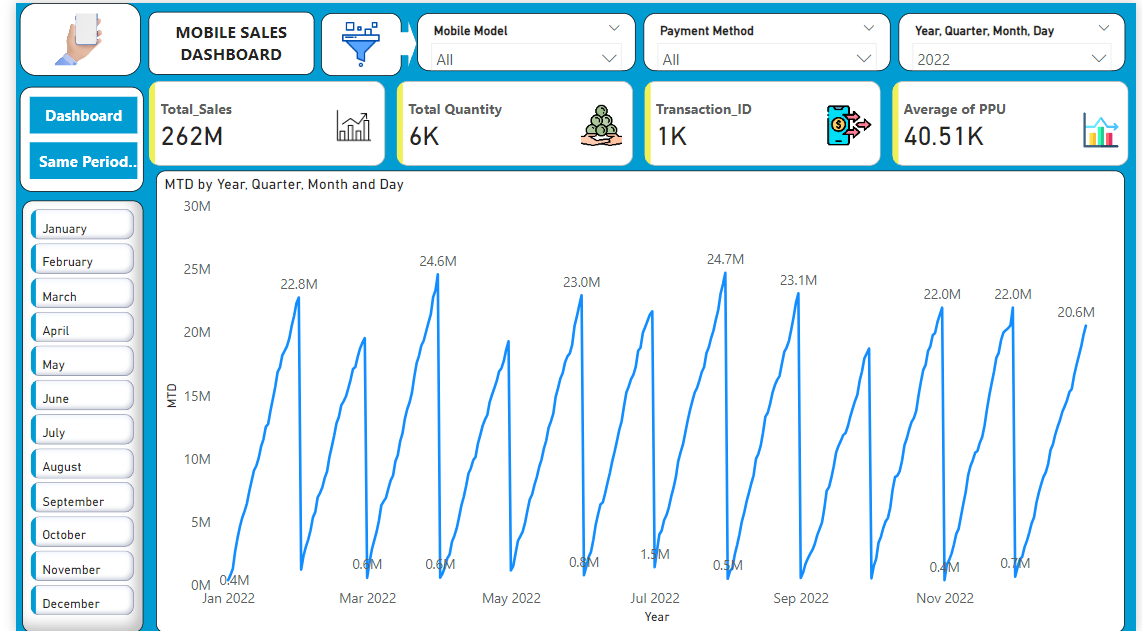

What the dashboard file says about the page in this screenshot:
{"tool":"powerbi","page":{"name":"MTD Report","canvas":[1280,720],"ordinal":1},"visuals":[{"type":"image","box":[3.6,0,138.7,83.2],"z":0},{"type":"cardVisual","fields":{"Data":["CALEDNAR.Total_Sales","Mobile_Sales_Data.Total Quantity","CALEDNAR.Total Transaction_ID","Avg(Mobile_Sales_Data.Price Per Unit)"]},"box":[147.1,84.3,1132.9,107.1],"z":1000},{"type":"slicer","fields":{"Values":["Mobile_Sales_Data.Mobile Model"]},"box":[458.4,10.9,249.7,66.4],"z":2000},{"type":"slicer","fields":{"Values":["Mobile_Sales_Data.Payment Method"]},"box":[716.6,10.9,282.3,66.4],"z":3000},{"type":"slicer","fields":{"Values":["CALEDNAR.Date.Variation.Date Hierarchy.Year","CALEDNAR.Date.Variation.Date Hierarchy.Quarter","CALEDNAR.Date.Variation.Date Hierarchy.Month","CALEDNAR.Date.Variation.Date Hierarchy.Day"]},"box":[1008.6,10.9,259.4,66.4],"z":4000},{"type":"image","box":[348.7,10.9,91.7,72.4],"z":5000},{"type":"shape","box":[439.1,20.5,19.3,53.1],"z":6000},{"type":"textbox","box":[150.8,9.7,189.4,72.4],"z":7000},{"type":"textbox","box":[4.3,95.7,141.4,120],"z":8000},{"type":"lineChart","fields":{"Y":["CALEDNAR.MTD"],"Category":["CALEDNAR.Date.Variation.Date Hierarchy.Year","CALEDNAR.Date.Variation.Date Hierarchy.Quarter","CALEDNAR.Date.Variation.Date Hierarchy.Month","CALEDNAR.Date.Variation.Date Hierarchy.Day"]},"box":[160,191.4,1107.1,528.6],"z":9000},{"type":"advancedSlicerVisual","fields":{"Values":["CALEDNAR.Date.Variation.Date Hierarchy.Month"]},"box":[7.1,225.7,138.6,494.3],"z":10000},{"type":"pageNavigator","box":[15,106.7,123.3,95],"z":11000}]}

Visuals, with their boxes in screenshot pixels (x1, y1, x2, y2), scaled from the page's 1280x720 canvas onto the 1142x631 screenshot:
image: (3,0,127,73)
cardVisual - CALEDNAR.Total_Sales x Mobile_Sales_Data.Total Quantity: (131,74,1141,168)
slicer - Mobile_Sales_Data.Mobile Model: (409,10,632,68)
slicer - Mobile_Sales_Data.Payment Method: (639,10,891,68)
slicer - CALEDNAR.Date.Variation.Date Hierarchy.Year x CALEDNAR.Date.Variation.Date Hierarchy.Quarter: (900,10,1131,68)
image: (311,10,393,73)
shape: (392,18,409,65)
textbox: (135,9,304,72)
textbox: (4,84,130,189)
lineChart - CALEDNAR.MTD x CALEDNAR.Date.Variation.Date Hierarchy.Year: (143,168,1130,630)
advancedSlicerVisual - CALEDNAR.Date.Variation.Date Hierarchy.Month: (6,198,130,630)
pageNavigator: (13,94,123,177)
